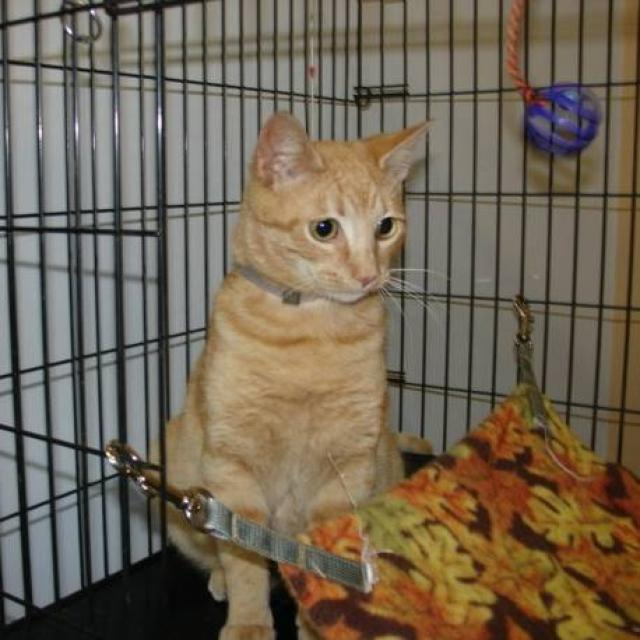cat: (158, 109, 439, 638)
